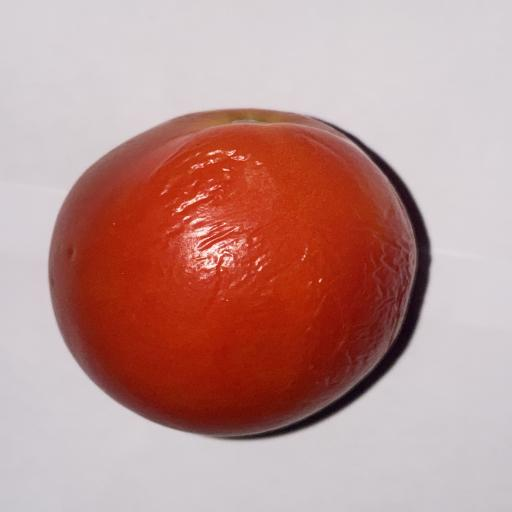spoiled: (49, 110, 417, 436)
